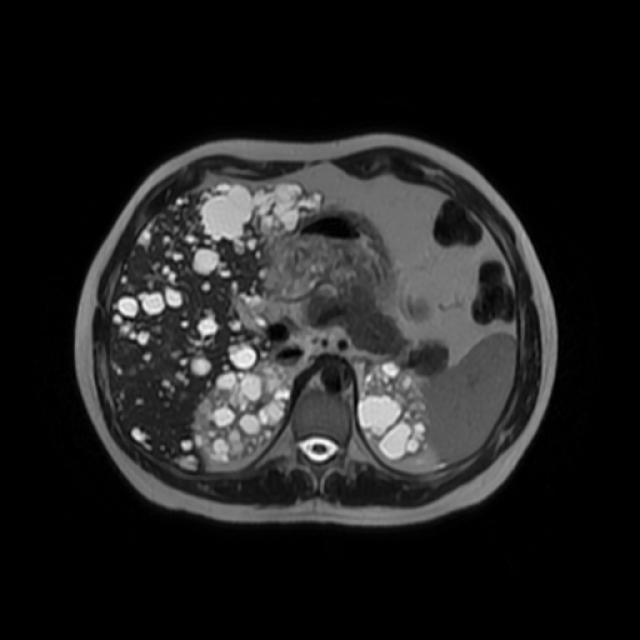sag: (191, 358, 290, 469)
sol: (357, 358, 431, 462)
